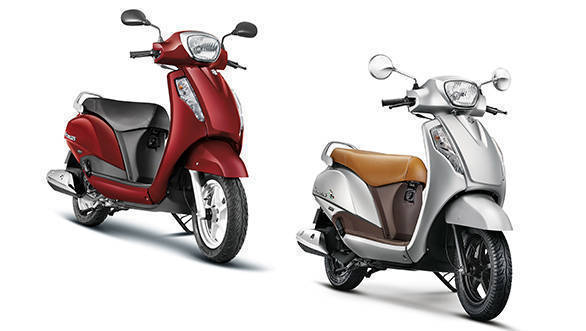bike: (296, 52, 516, 325), (41, 8, 261, 269)
